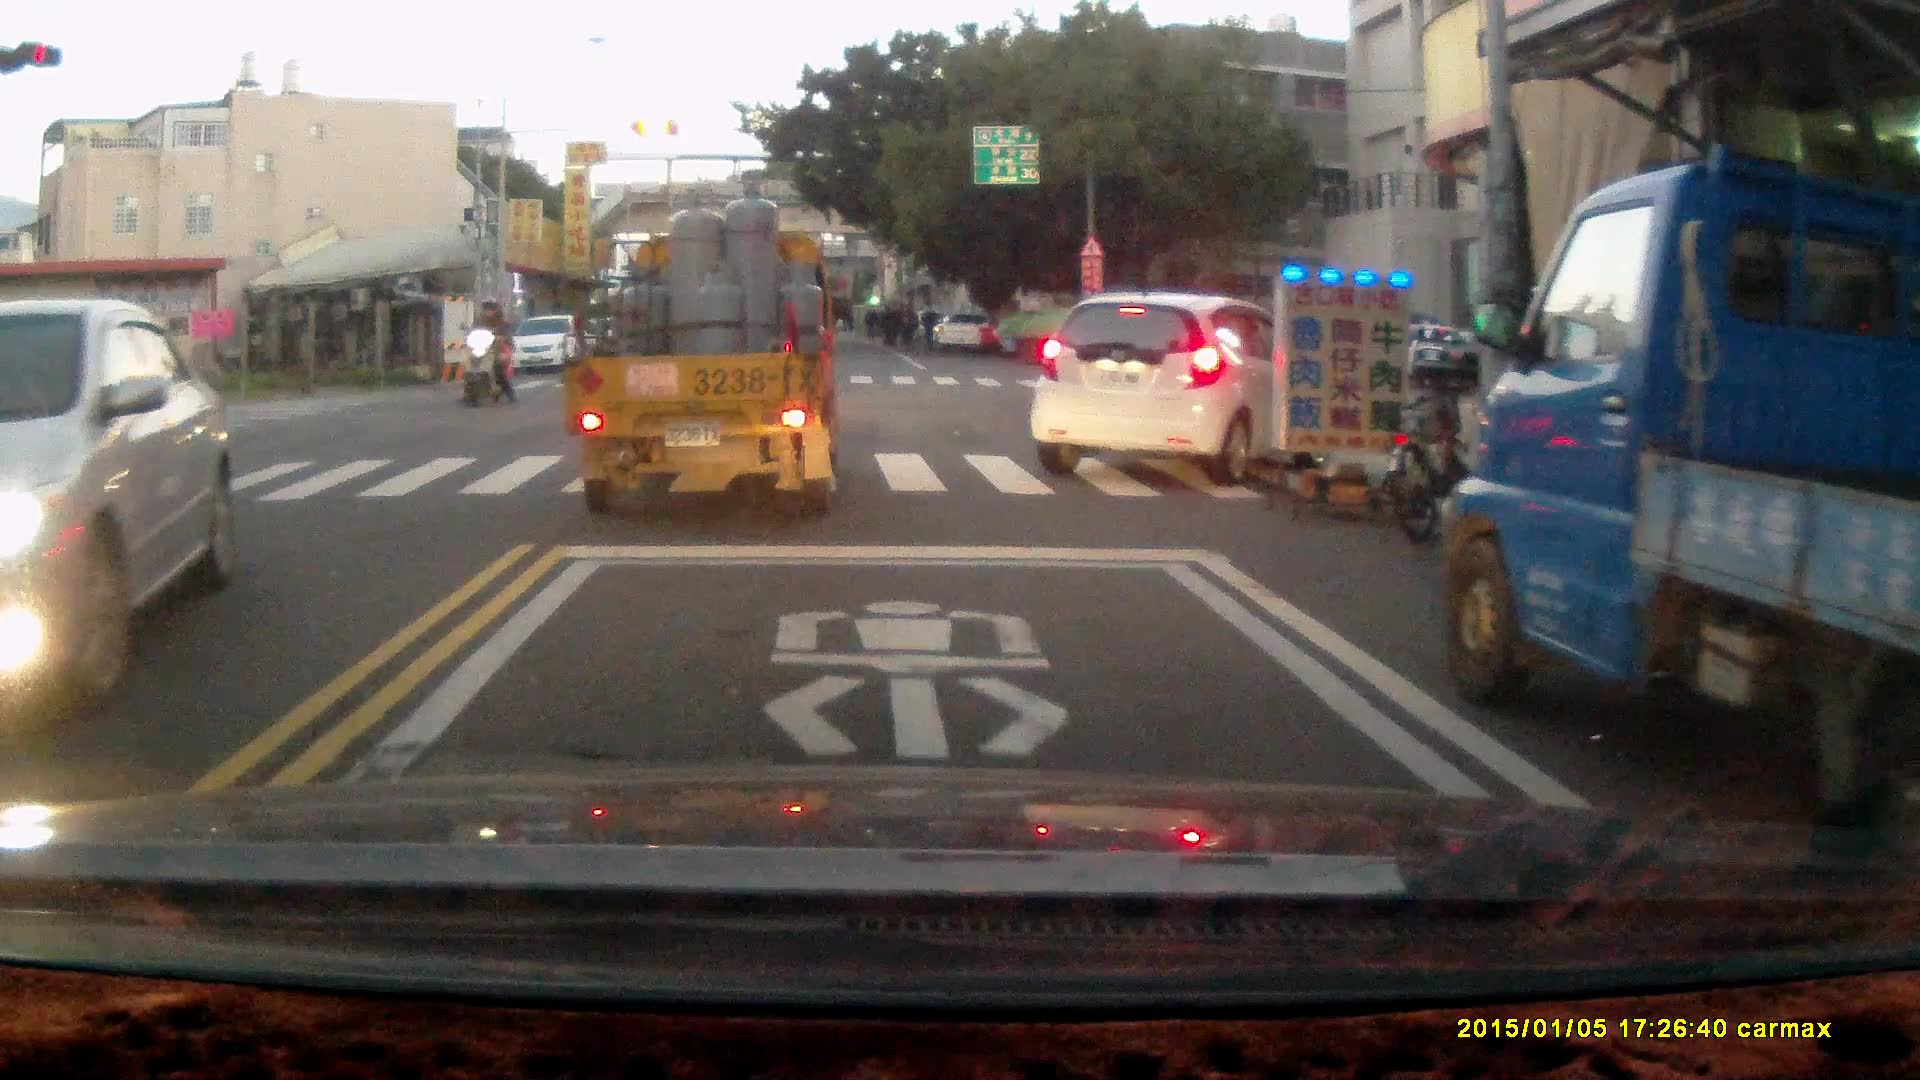rider: (457, 299, 513, 406)
vehicle: (1429, 162, 1920, 816), (1, 295, 231, 745), (562, 185, 845, 519), (1026, 287, 1305, 469), (507, 312, 588, 379)
